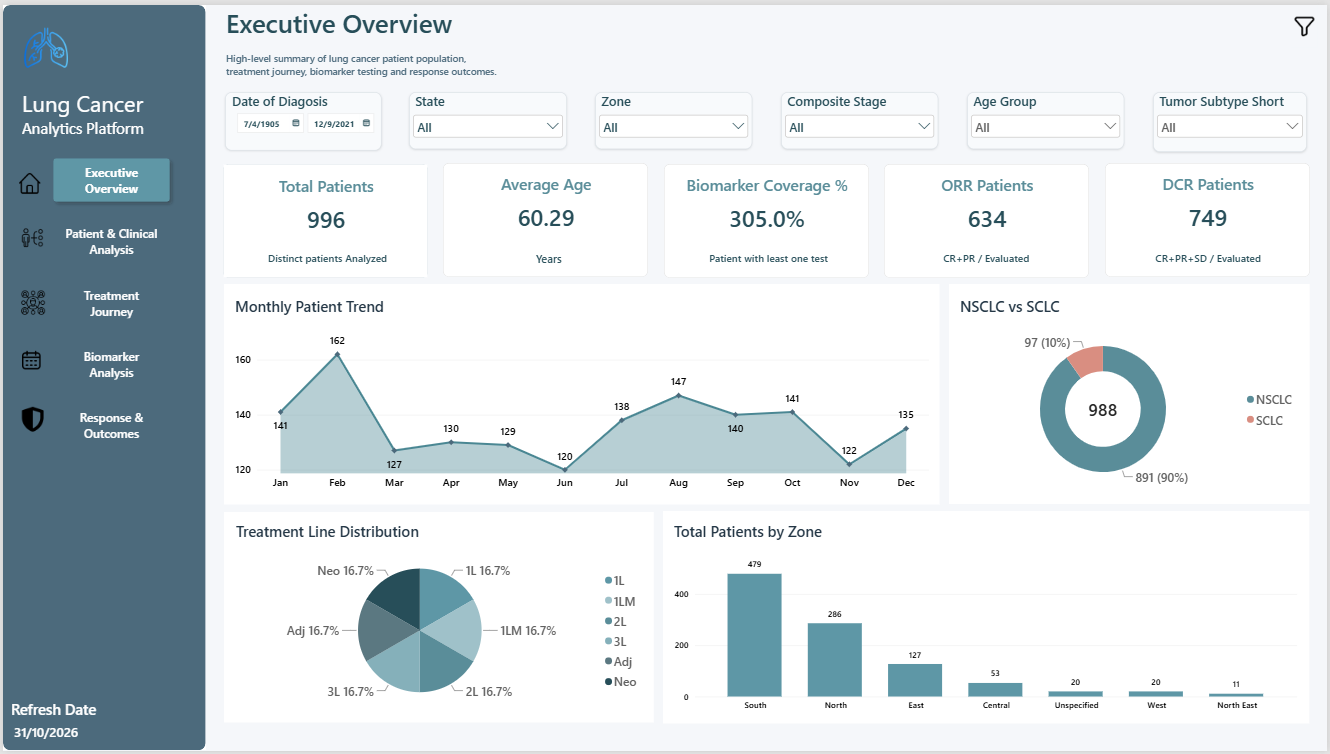

The page's visual inventory and layout, read from the dashboard file:
{"tool":"powerbi","page":{"name":"Executive Overview","canvas":[1920,1080],"ordinal":0},"visuals":[{"type":"shape","title":"Plane","box":[0,0,293,1080],"z":0,"group":"g1"},{"type":"group","id":"g1","title":"Filter Plane","box":[0,0,293,1080],"z":0,"group":"g4"},{"type":"slicer","title":"Date of Diagosis","fields":{"Values":["lung_cancer_analysis.Date of diagnosis"]},"box":[322.3,126.1,226.6,85.2],"z":0,"group":"g7"},{"type":"cardVisual","fields":{"Data":["Dim_Patient.Total Patients"]},"box":[318.8,229.7,297,165.8],"z":0},{"type":"image","box":[24,302.3,36.2,72.7],"z":0,"group":"g2"},{"type":"shape","box":[1371.6,404.1,522.7,318.8],"z":0,"group":"g5"},{"type":"shape","box":[319.6,404.8,1037.3,319.6],"z":0,"group":"g6"},{"type":"shape","box":[956.8,734,936.6,308],"z":0,"group":"g3"},{"type":"textbox","box":[323.1,0,656.3,108.4],"z":1000},{"type":"image","box":[27.7,16.7,69.6,89.1],"z":1000,"group":"g1"},{"type":"slicer","fields":{"Values":["Dim_Patient.State"]},"box":[588.9,125.9,229,83.3],"z":1000,"group":"g7"},{"type":"pageNavigator","box":[63.6,213.8,187.1,438.2],"z":1000,"group":"g4"},{"type":"donutChart","title":"NSCLC vs SCLC","fields":{"Series":["Dim_Patient.Tumor Subtype Short"],"Y":["Dim_Patient.Total Patients"]},"box":[1372,406.4,522.2,314.8],"z":1000,"group":"g5"},{"type":"lineChart","title":"Monthly Patient Trend","fields":{"Category":["lung_cancer_analysis.Month Short"],"Y":["Dim_Patient.Monthly Patients"]},"box":[320.1,407.1,1037.6,315.5],"z":1000,"group":"g6"},{"type":"image","box":[24,576.5,36.5,50.4],"z":1000,"group":"g2"},{"type":"textbox","box":[27.7,120.5,182.9,92.7],"z":2000,"group":"g1"},{"type":"slicer","fields":{"Values":["Dim_Patient.Tumor Subtype Short"]},"box":[1667.3,125.9,223,87.2],"z":2000,"group":"g7"},{"type":"image","box":[23.1,228.2,31.4,61.6],"z":2000,"group":"g2"},{"type":"shape","box":[319.7,735,622.9,305],"z":2000},{"type":"group","id":"g2","title":"Group 3","box":[23.1,228.2,37.5,398.6],"z":3000,"group":"g1"},{"type":"cardVisual","fields":{"Data":["Dim_Patient.Average Age"]},"box":[638,228.5,297,165.8],"z":3000},{"type":"image","box":[25.9,405.8,34.7,50.4],"z":3000,"group":"g2"},{"type":"slicer","fields":{"Values":["Dim_Patient.Age Group"]},"box":[1397.9,125.9,228.2,82.9],"z":4000,"group":"g7"},{"type":"cardVisual","fields":{"Data":["Dim_Patient.ORR Patients"]},"box":[1276.8,229.7,297.9,165],"z":4000},{"type":"image","box":[27.7,481.3,27.4,67.2],"z":4000,"group":"g2"},{"type":"slicer","fields":{"Values":["Dim_Patient.Zone"]},"box":[859.1,125.9,228.2,82.9],"z":5000,"group":"g7"},{"type":"group","id":"g3","title":"Group 2","box":[956.8,734,935.5,308],"z":5000},{"type":"slicer","fields":{"Values":["lung_cancer_analysis.COMPOSITE STAGE"]},"box":[1128.5,125.9,228.2,82.9],"z":6000,"group":"g7"},{"type":"cardVisual","fields":{"Data":["Dim_Patient.Biomarker Coverage %"]},"box":[957.7,229.7,297.9,165.8],"z":6000},{"type":"group","id":"g4","title":"Group 6","box":[0,0,293,1080],"z":7000},{"type":"pieChart","title":"Treatment Line Distribution","fields":{"Category":["LOT.flag"],"Y":["Dim_Patient.Treatment Patients"]},"box":[321.5,734,621.7,304.1],"z":8000},{"type":"cardVisual","fields":{"Data":["Dim_Patient.DCR Patients"]},"box":[1596.7,229.4,297.5,165.8],"z":9000},{"type":"image","box":[1867.1,0,38.7,62],"z":10000},{"type":"group","id":"g5","title":"Group 4","box":[1371.6,404.1,522.7,317],"z":11000},{"type":"group","id":"g6","title":"Group 5","box":[319.6,404.8,1038.1,319.6],"z":12000},{"type":"columnChart","fields":{"Category":["Dim_Patient.Zone"],"Y":["Dim_Patient.Total Patients"]},"box":[956.8,734,935.5,309.9],"z":13000},{"type":"group","id":"g7","title":"Group 8","box":[322.3,125.9,1568,87.2],"z":14000},{"type":"textbox","box":[323.4,356,298.3,60],"z":15000},{"type":"textbox","box":[747.6,356,91,36.8],"z":16000},{"type":"textbox","box":[958.7,356,296.3,34.9],"z":17000},{"type":"textbox","box":[1274.4,356,298.3,29.1],"z":18000},{"type":"textbox","box":[1597.9,356,296.3,34.9],"z":19000},{"type":"textbox","box":[11.4,1006.2,174.9,31.8],"z":19001,"group":"g8"},{"type":"cardVisual","fields":{"Data":["Dim_Patient.Refresh Date Display"]},"box":[0,1038,156.7,31],"z":19002,"group":"g8"},{"type":"group","id":"g8","title":"Group 1","box":[0,1006.2,186.2,62.8],"z":19003}]}

Visuals, with their boxes in screenshot pixels (x1, y1, x2, y2), scaled from the page's 1920x1080 canvas onto the 1330x754 screenshot:
"Plane" shape: left=0, top=0, right=203, bottom=753
"Filter Plane" group: left=0, top=0, right=203, bottom=753
"Date of Diagosis" slicer: left=223, top=88, right=380, bottom=148
cardVisual - Dim_Patient.Total Patients: left=221, top=160, right=427, bottom=276
image: left=17, top=211, right=42, bottom=262
shape: left=950, top=282, right=1312, bottom=505
shape: left=221, top=283, right=940, bottom=506
shape: left=663, top=512, right=1312, bottom=727
textbox: left=224, top=0, right=678, bottom=76
image: left=19, top=12, right=67, bottom=74
slicer - Dim_Patient.State: left=408, top=88, right=567, bottom=146
pageNavigator: left=44, top=149, right=174, bottom=455
"NSCLC vs SCLC" donutChart: left=950, top=284, right=1312, bottom=504
"Monthly Patient Trend" lineChart: left=222, top=284, right=940, bottom=504
image: left=17, top=402, right=42, bottom=438
textbox: left=19, top=84, right=146, bottom=149
slicer - Dim_Patient.Tumor Subtype Short: left=1155, top=88, right=1309, bottom=149
image: left=16, top=159, right=38, bottom=202
shape: left=221, top=513, right=653, bottom=726
"Group 3" group: left=16, top=159, right=42, bottom=438
cardVisual - Dim_Patient.Average Age: left=442, top=160, right=648, bottom=275
image: left=18, top=283, right=42, bottom=318
slicer - Dim_Patient.Age Group: left=968, top=88, right=1126, bottom=146
cardVisual - Dim_Patient.ORR Patients: left=884, top=160, right=1091, bottom=276
image: left=19, top=336, right=38, bottom=383
slicer - Dim_Patient.Zone: left=595, top=88, right=753, bottom=146
"Group 2" group: left=663, top=512, right=1311, bottom=727
slicer - lung_cancer_analysis.COMPOSITE STAGE: left=782, top=88, right=940, bottom=146
cardVisual - Dim_Patient.Biomarker Coverage %: left=663, top=160, right=870, bottom=276
"Group 6" group: left=0, top=0, right=203, bottom=753
"Treatment Line Distribution" pieChart: left=223, top=512, right=653, bottom=725
cardVisual - Dim_Patient.DCR Patients: left=1106, top=160, right=1312, bottom=276
image: left=1293, top=0, right=1320, bottom=43
"Group 4" group: left=950, top=282, right=1312, bottom=503
"Group 5" group: left=221, top=283, right=940, bottom=506
columnChart - Dim_Patient.Zone x Dim_Patient.Total Patients: left=663, top=512, right=1311, bottom=729
"Group 8" group: left=223, top=88, right=1309, bottom=149
textbox: left=224, top=249, right=431, bottom=290
textbox: left=518, top=249, right=581, bottom=274
textbox: left=664, top=249, right=869, bottom=273
textbox: left=883, top=249, right=1089, bottom=269
textbox: left=1107, top=249, right=1312, bottom=273
textbox: left=8, top=702, right=129, bottom=725
cardVisual - Dim_Patient.Refresh Date Display: left=0, top=725, right=109, bottom=746
"Group 1" group: left=0, top=702, right=129, bottom=746
